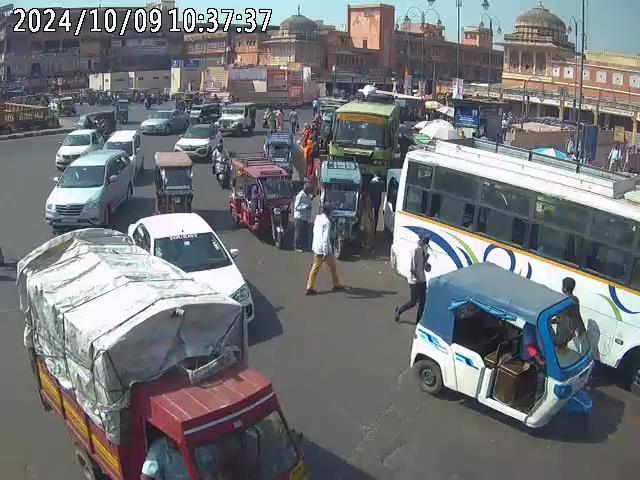auto: (410, 262, 599, 434), (229, 157, 296, 244), (319, 156, 363, 258), (151, 150, 194, 214), (112, 97, 130, 124)
bus: (391, 138, 638, 384), (328, 87, 402, 182)
car: (128, 212, 254, 324), (43, 148, 135, 234), (54, 129, 105, 170), (103, 129, 143, 181), (175, 122, 222, 159), (216, 103, 256, 136), (138, 109, 182, 136)
helmet: (215, 142, 224, 152)
lorry: (18, 227, 312, 480)
person: (392, 230, 432, 322), (307, 206, 342, 296), (293, 181, 316, 250)
scooty-rider: (212, 141, 233, 189)
